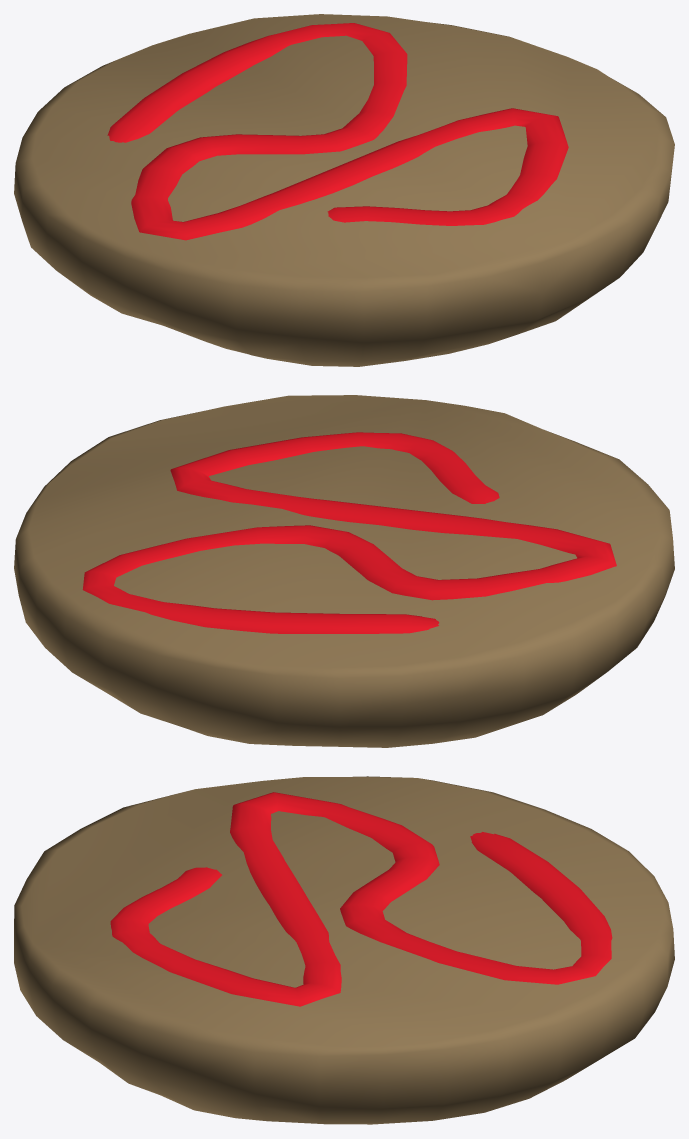
Rendered from bulka1.fbx.
The picture shows the model from 3 angles, top to bottom: view 1: azimuth 30°, elevation 25°; view 2: azimuth 150°, elevation 25°; view 3: azimuth 270°, elevation 25°; orthographic projection.
Parts seen in each view (by area): view 1: Sphere.009; view 2: Sphere.009; view 3: Sphere.009.
Part boxes in pixels (x1,y1,x2,y2): Sphere.009: [14, 14, 674, 366]; Sphere.009: [14, 395, 674, 747]; Sphere.009: [14, 776, 674, 1124].
Size of the model in its own units: 87.88 by 21.83 by 87.5.
